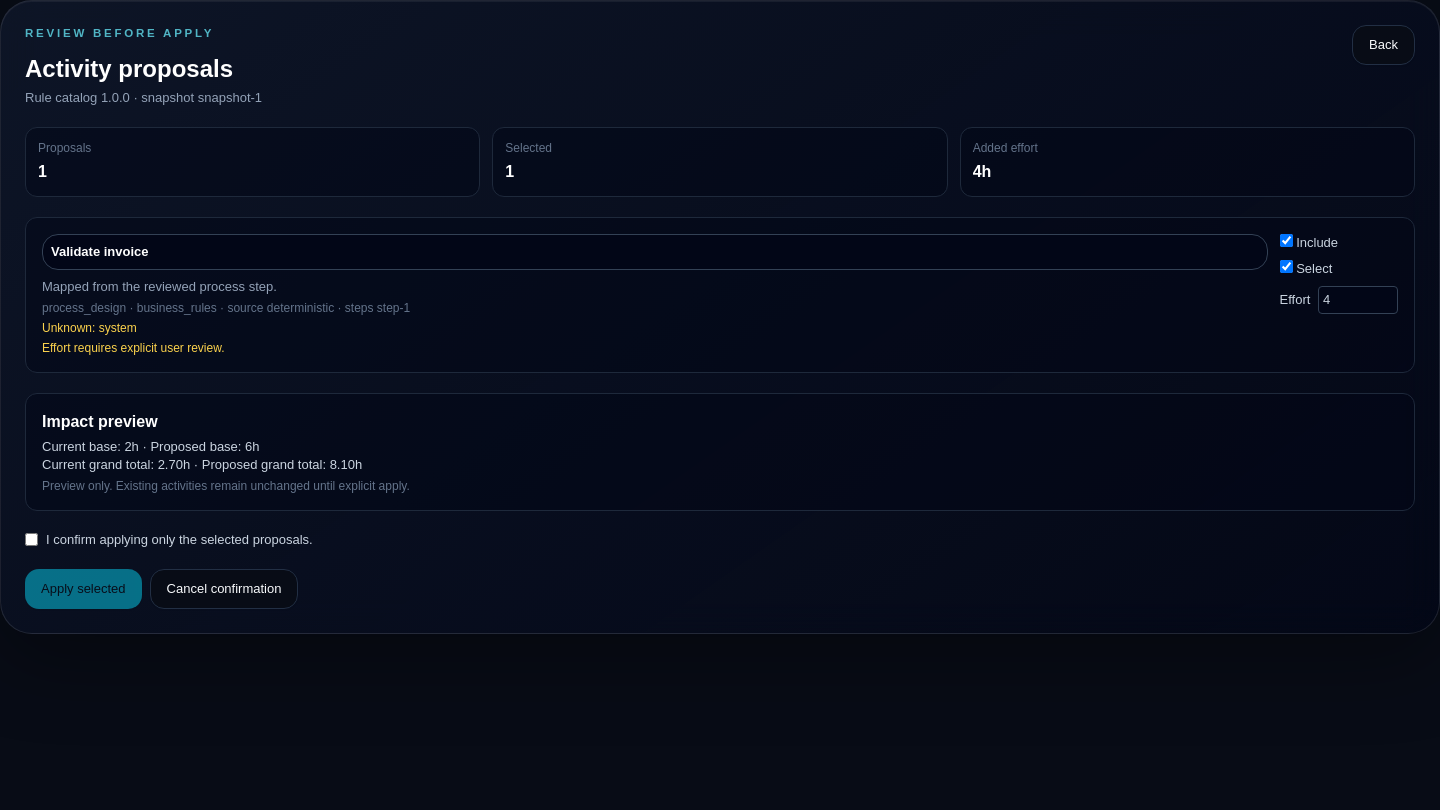
Test: ProposalWorkspace › shows traceability and never applies before explicit confirmation
The image size is (1440, 810).
expect the heading "Activity proposals" is shown: met, box [25,53,262,85]
expect the text "Rule catalog 1.0.0 · snapshot snapshot-1" is shown: met, box [25,89,262,107]
Click the checkbox labelled "I confirm applying only the selected proposals.".
click(32, 540)  # box [25,533,38,546]
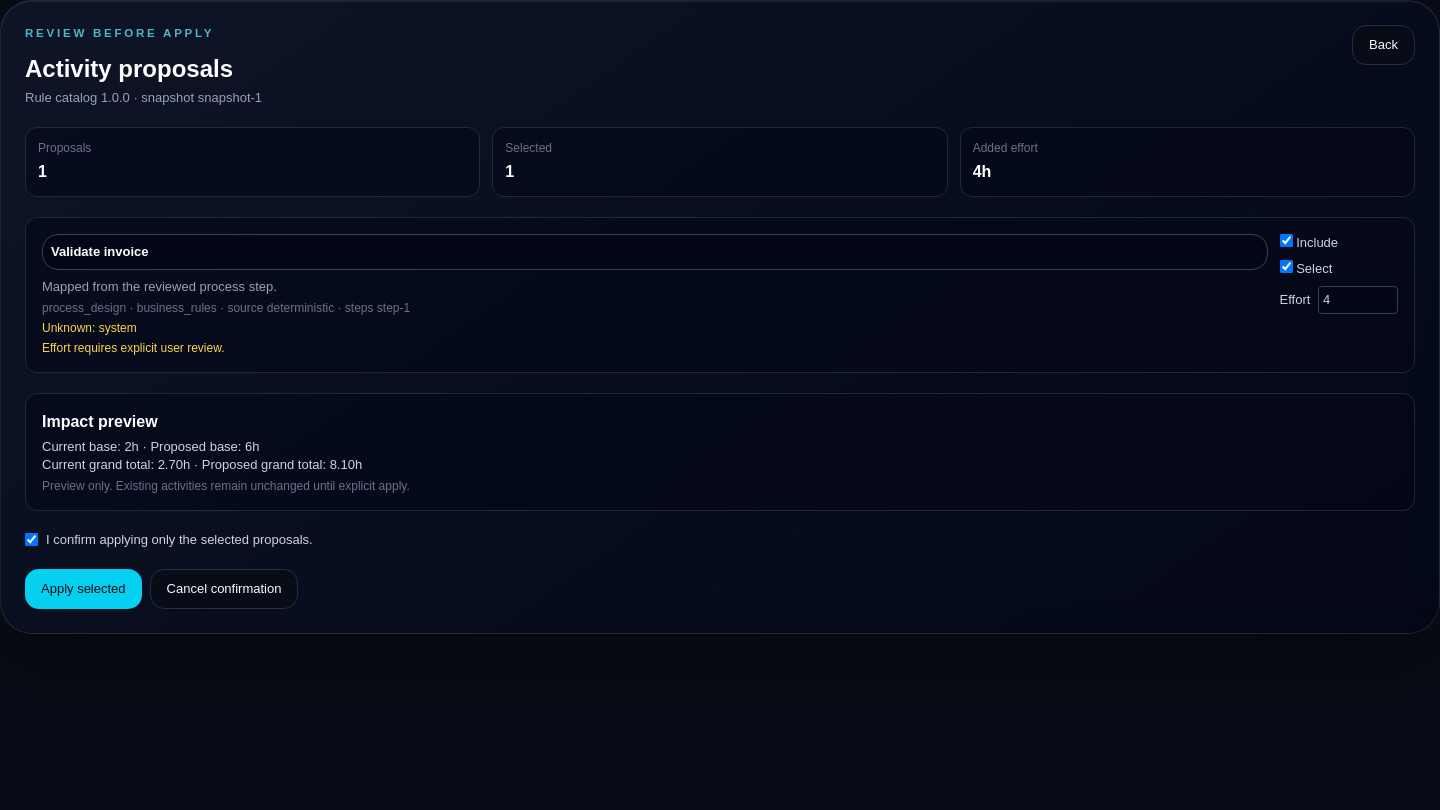
expect the button "Apply selected" is enabled: met
Click the button "Apply selected".
click(83, 589)  # box [25,569,142,609]
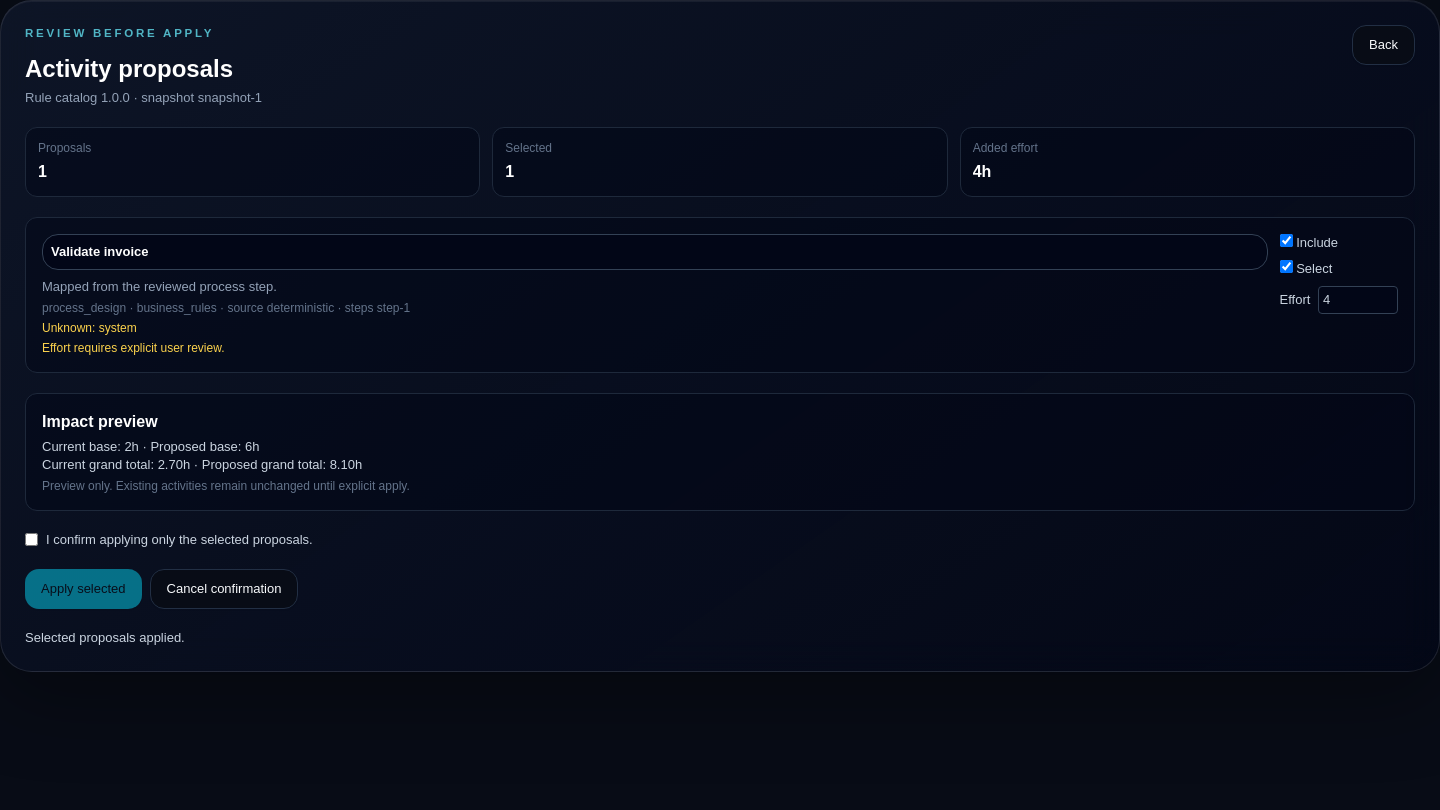
expect the message reads "Selected proposals applied.": met, box [25,630,185,645]
